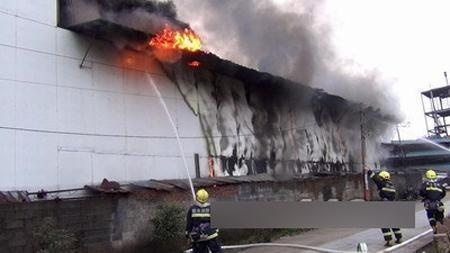fire: (149, 24, 203, 53)
